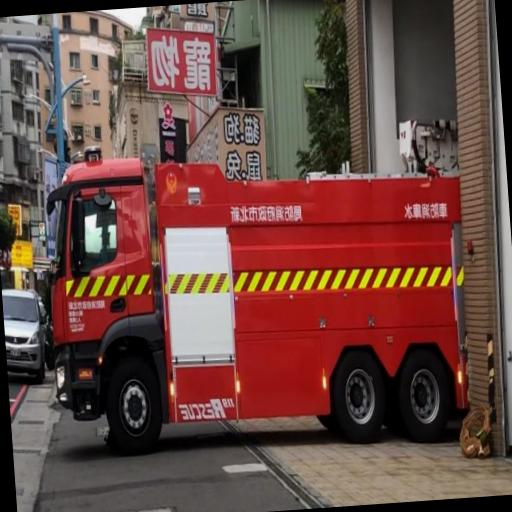fire truck: (32, 114, 478, 464)
